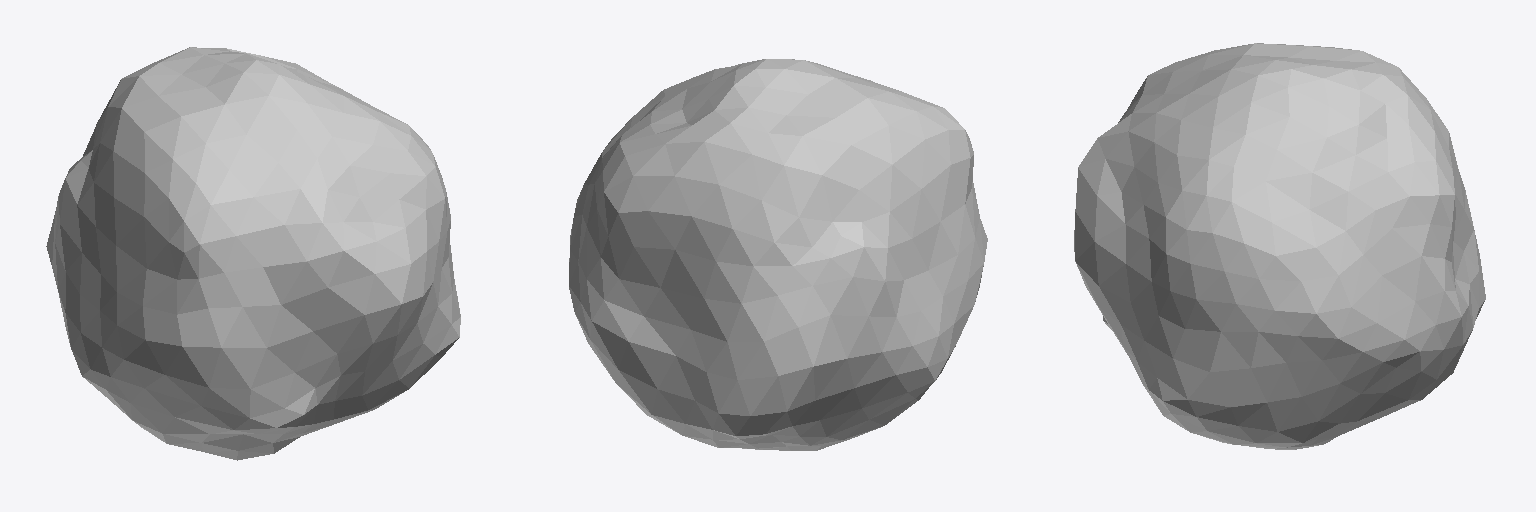
The model's file is rock.obj.
3 views of the same model, side by side, from view 1: azimuth 30°, elevation 25°; view 2: azimuth 150°, elevation 25°; view 3: azimuth 270°, elevation 25° (orthographic).
Parts seen in each view (by area): view 1: Icosphere; view 2: Icosphere; view 3: Icosphere.
Boxes of the visible parts, x1,y1,x2,y2 form: Icosphere: [46, 47, 460, 460]; Icosphere: [569, 59, 987, 450]; Icosphere: [1074, 43, 1485, 449].
Bounding box in the file's own units: 1.8 × 1.89 × 1.85.